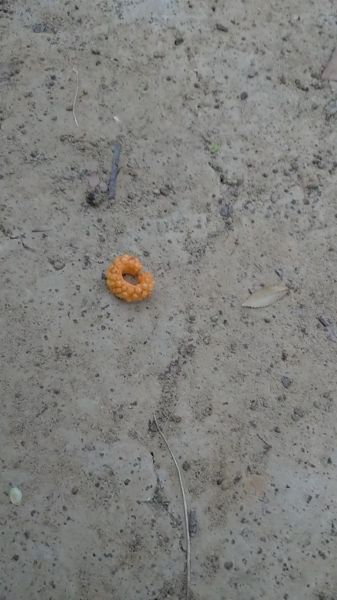eggs: (102, 248, 155, 307)
